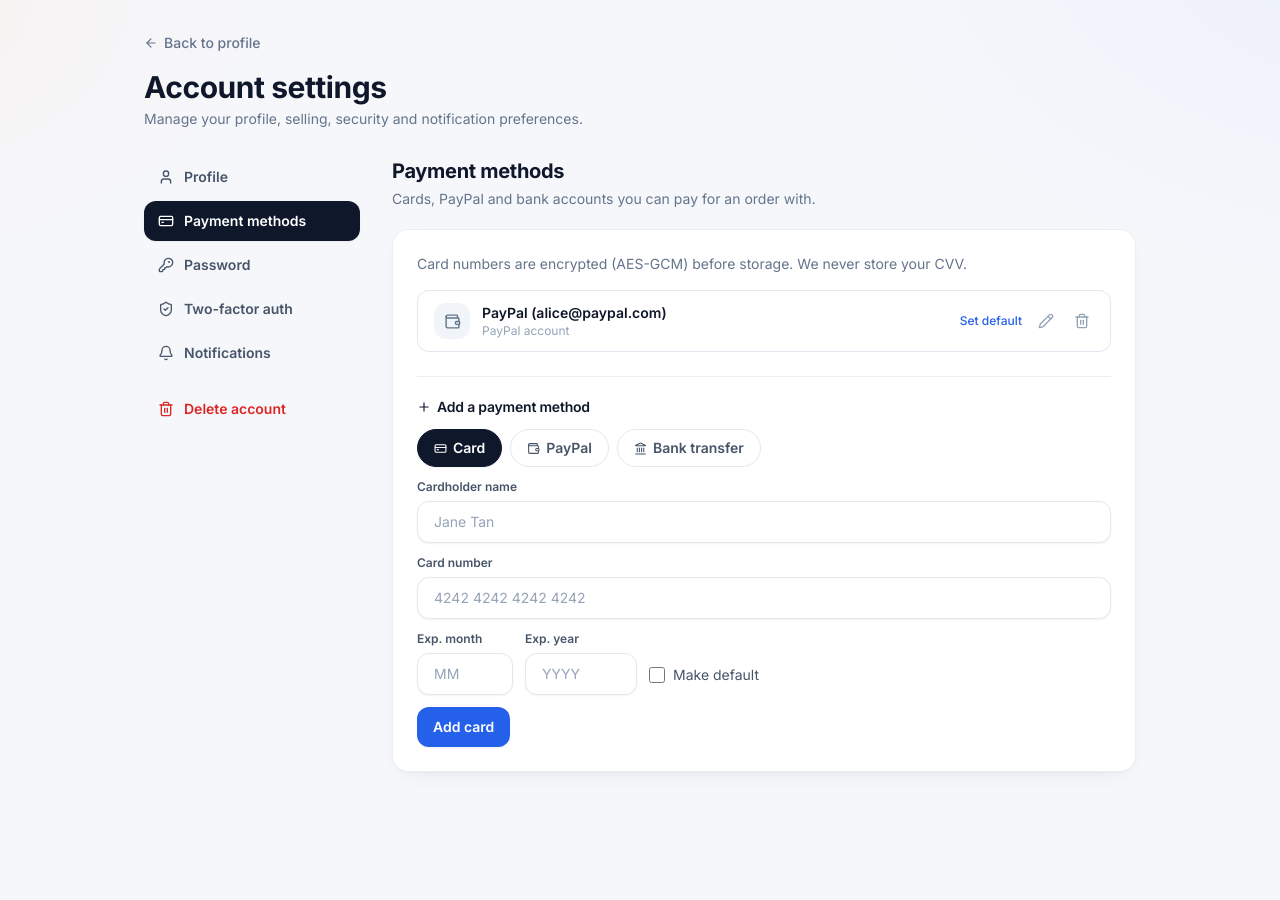
it: editing a saved payment method › offers only the email for a PayPal method
The image size is (1280, 900).
Click the button named "Edit PayPal". click: [1046, 321]
box: [1034,309,1058,333]
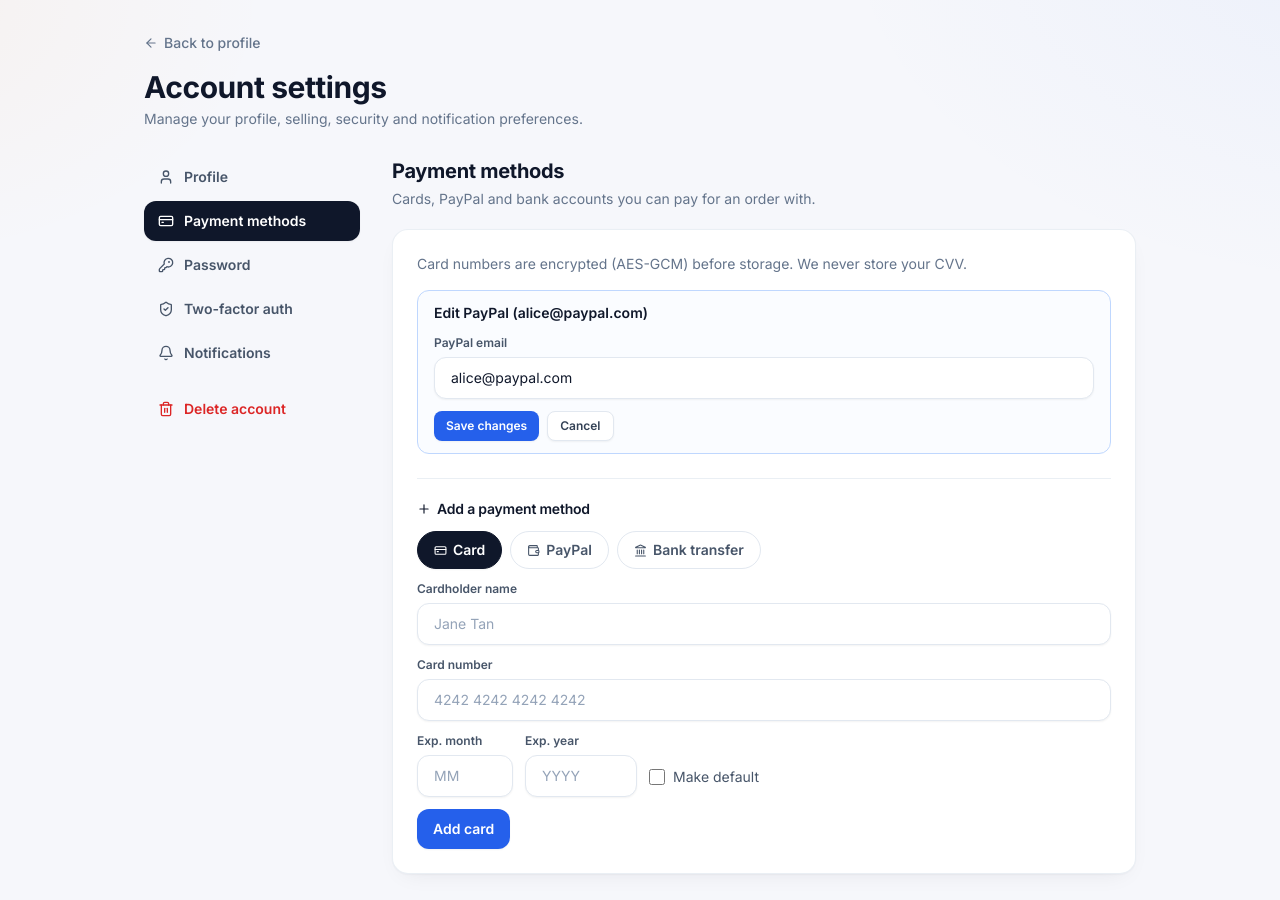
Check: the field labelled "PayPal email" holds "alice@paypal.com", box [434,357,1094,399]
